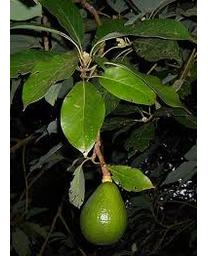avocado: (78, 181, 127, 247)
